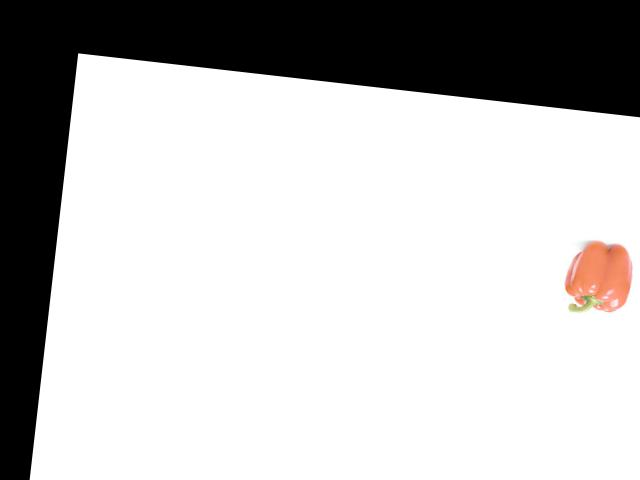bell_pepper: (561, 236, 637, 319)
